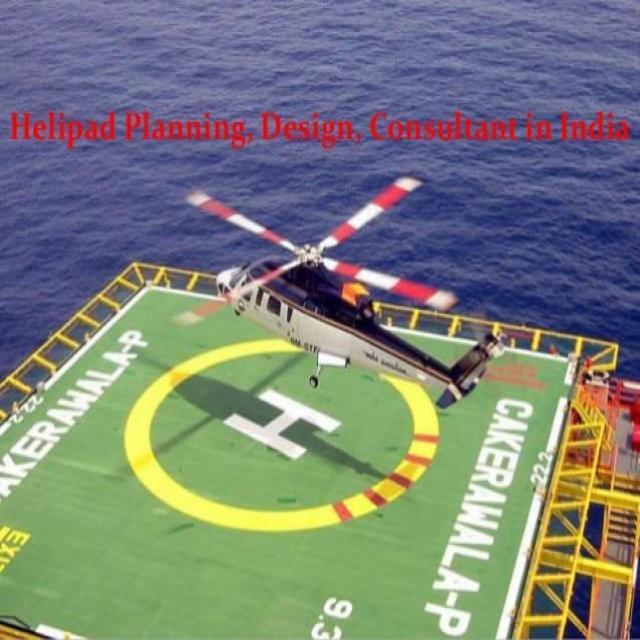helipad: (120, 333, 442, 537)
